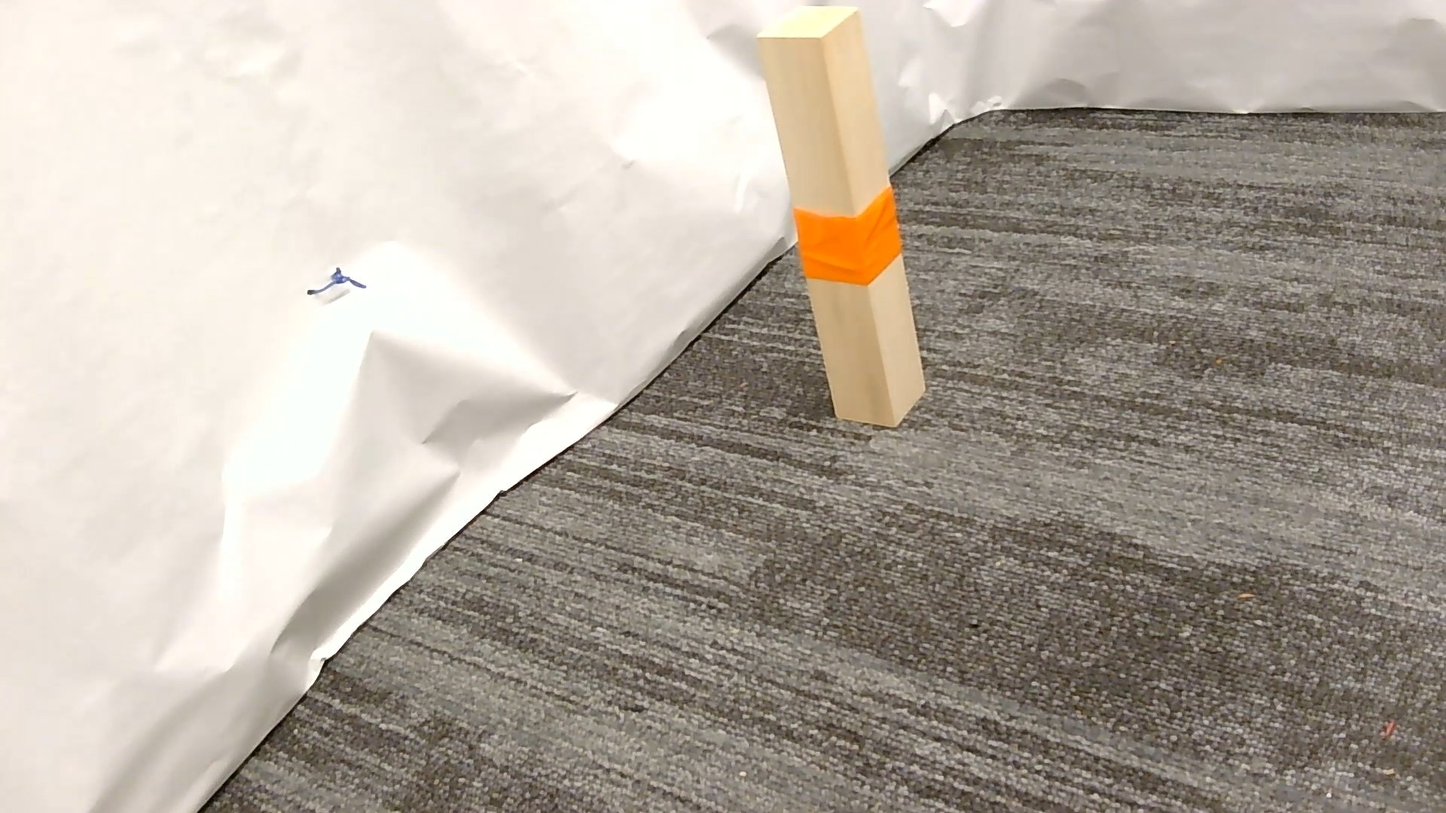Wooden Block: (758, 7, 925, 426)
